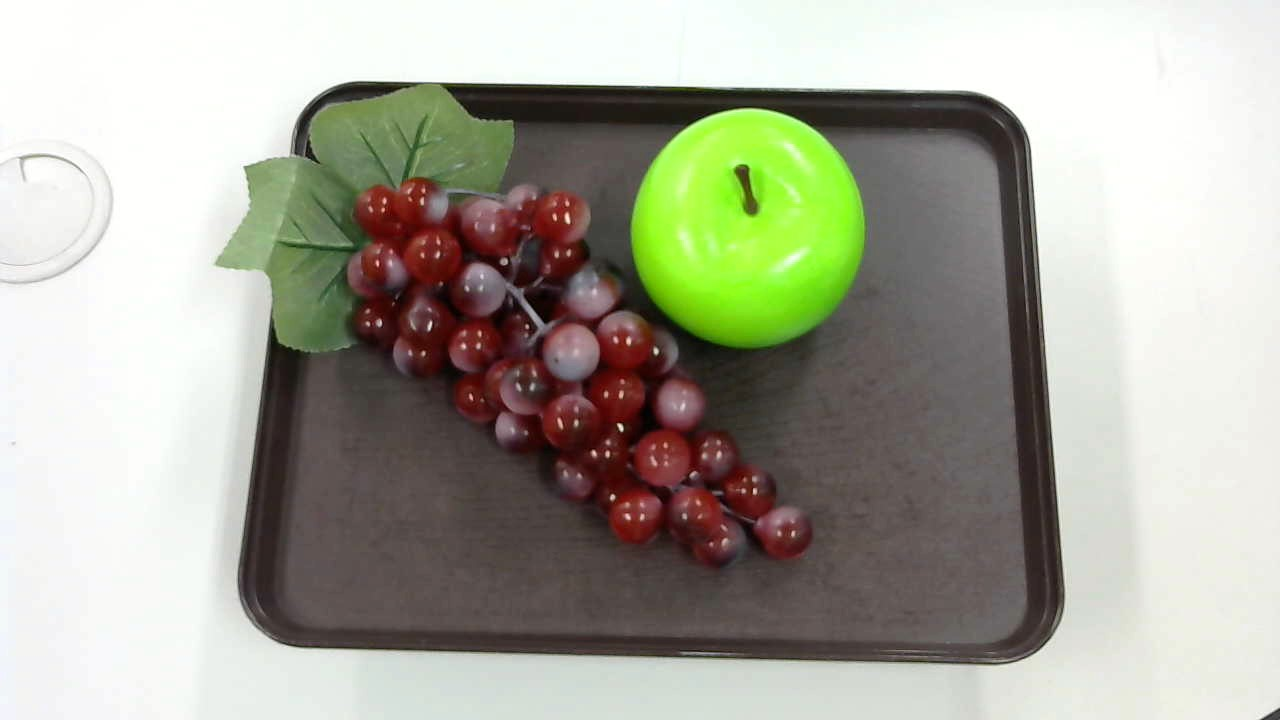grape: (218, 81, 812, 574)
green apple: (630, 105, 868, 354)
